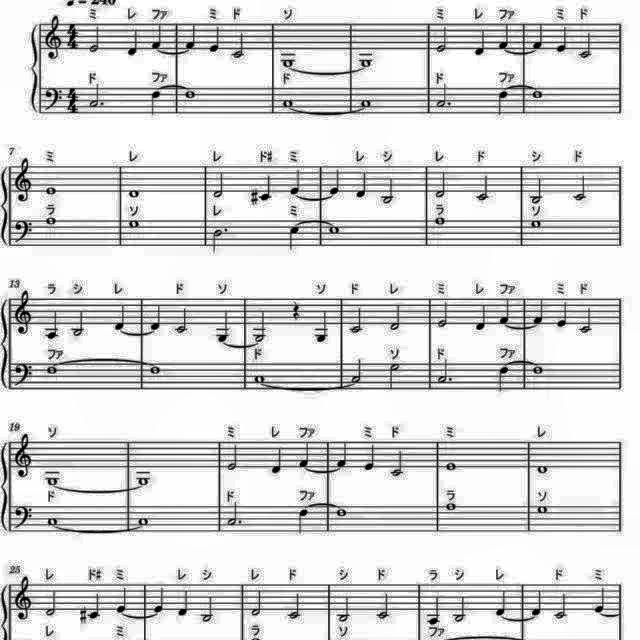Bass-clef: (10, 361, 34, 391), (10, 218, 34, 248), (11, 502, 35, 530), (42, 86, 62, 114)
Diez: (76, 604, 88, 626), (248, 186, 260, 206)
Full-note: (134, 468, 154, 486), (44, 472, 64, 488), (356, 54, 374, 70), (126, 216, 142, 232), (135, 515, 153, 529), (534, 462, 550, 476), (126, 185, 142, 199), (534, 502, 550, 516), (326, 222, 342, 236), (529, 362, 545, 376), (528, 89, 544, 103), (42, 183, 58, 197), (251, 372, 267, 386), (334, 506, 350, 520), (182, 89, 198, 103), (146, 362, 162, 376), (432, 214, 448, 228), (279, 58, 297, 70), (41, 214, 59, 226), (356, 98, 374, 110), (41, 364, 59, 376), (528, 217, 544, 230), (444, 460, 460, 472), (444, 500, 460, 512), (280, 98, 296, 110), (44, 516, 60, 528)
Half-dot: (224, 499, 244, 529), (210, 224, 230, 254), (434, 81, 452, 111), (89, 84, 108, 112), (436, 357, 452, 385)
Half-note: (248, 310, 268, 346), (230, 29, 250, 59), (284, 590, 304, 620), (474, 175, 494, 205), (570, 175, 590, 205), (553, 588, 571, 620), (375, 590, 393, 622), (377, 176, 395, 208), (200, 594, 217, 626), (576, 32, 594, 62), (69, 309, 87, 339), (388, 448, 406, 478), (172, 305, 190, 335), (42, 586, 58, 618), (248, 586, 264, 618), (223, 442, 240, 472), (530, 178, 548, 206), (578, 306, 596, 334), (436, 23, 452, 54), (386, 360, 402, 390), (452, 594, 468, 624), (212, 173, 228, 203), (432, 172, 448, 202), (88, 24, 104, 54), (349, 303, 365, 333), (338, 595, 354, 625), (386, 305, 402, 335), (436, 300, 452, 328), (350, 357, 364, 385)
Quarter-note: (312, 309, 332, 346), (212, 310, 232, 344), (424, 593, 442, 627), (43, 308, 61, 342), (286, 167, 304, 197), (492, 586, 508, 618), (554, 300, 570, 332), (126, 26, 142, 58), (113, 584, 129, 616), (270, 445, 286, 477), (529, 586, 545, 618), (88, 588, 104, 620), (150, 584, 166, 616), (471, 27, 487, 58), (148, 22, 164, 52), (554, 25, 570, 55), (592, 586, 608, 616), (353, 169, 369, 199), (260, 173, 276, 203), (530, 22, 546, 52), (328, 166, 344, 196), (472, 303, 488, 333), (530, 297, 546, 327), (294, 507, 310, 537), (298, 442, 314, 471), (496, 22, 512, 50), (111, 302, 127, 330), (362, 442, 376, 474), (182, 22, 198, 50), (496, 296, 512, 324), (176, 588, 190, 620), (148, 304, 164, 332), (494, 88, 510, 116), (147, 90, 163, 118), (286, 222, 302, 250), (336, 440, 350, 470), (496, 363, 510, 393), (208, 26, 222, 54)
Quarter-rest: (288, 298, 302, 322)
Treble-clef: (11, 572, 35, 620), (12, 288, 36, 336), (11, 430, 35, 478), (11, 155, 34, 205), (44, 14, 66, 64)
